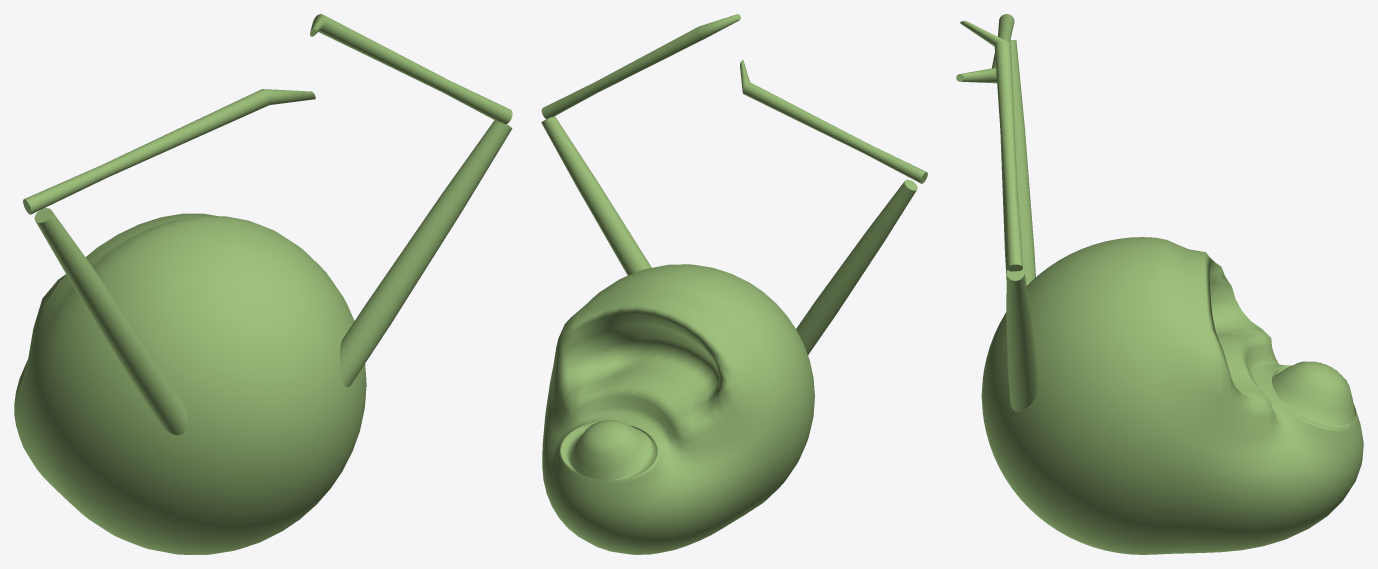
3 renders of one model, left to right at view 1: azimuth 30°, elevation 25°; view 2: azimuth 150°, elevation 25°; view 3: azimuth 270°, elevation 25°, orthographic. The views are drawn at different scales.
Parts seen in each view (by area): view 1: pSphere1, armleft_up, armright_Up, armRight, armleft; view 2: pSphere1, armright_Up, armleft_up, armRight, armleft; view 3: pSphere1, armleft, armleft_up, armright_Up, armRight.
Boxes of the visible parts, x1=… form: pSphere1: x1=14, y1=213, x2=366, y2=554; armleft_up: x1=340, y1=120, x2=512, y2=387; armright_Up: x1=34, y1=208, x2=187, y2=435; armRight: x1=23, y1=89, x2=315, y2=214; armleft: x1=310, y1=14, x2=512, y2=124; pSphere1: x1=542, y1=264, x2=814, y2=554; armright_Up: x1=796, y1=179, x2=917, y2=354; armleft_up: x1=541, y1=116, x2=651, y2=275; armRight: x1=740, y1=60, x2=927, y2=183; armleft: x1=541, y1=14, x2=740, y2=118; pSphere1: x1=981, y1=237, x2=1363, y2=554; armleft: x1=960, y1=20, x2=1022, y2=271; armleft_up: x1=1006, y1=269, x2=1038, y2=411; armright_Up: x1=1000, y1=40, x2=1035, y2=285; armRight: x1=956, y1=14, x2=1014, y2=83.
Size of the model in its own units: 2.42 by 2.72 by 1.89.
